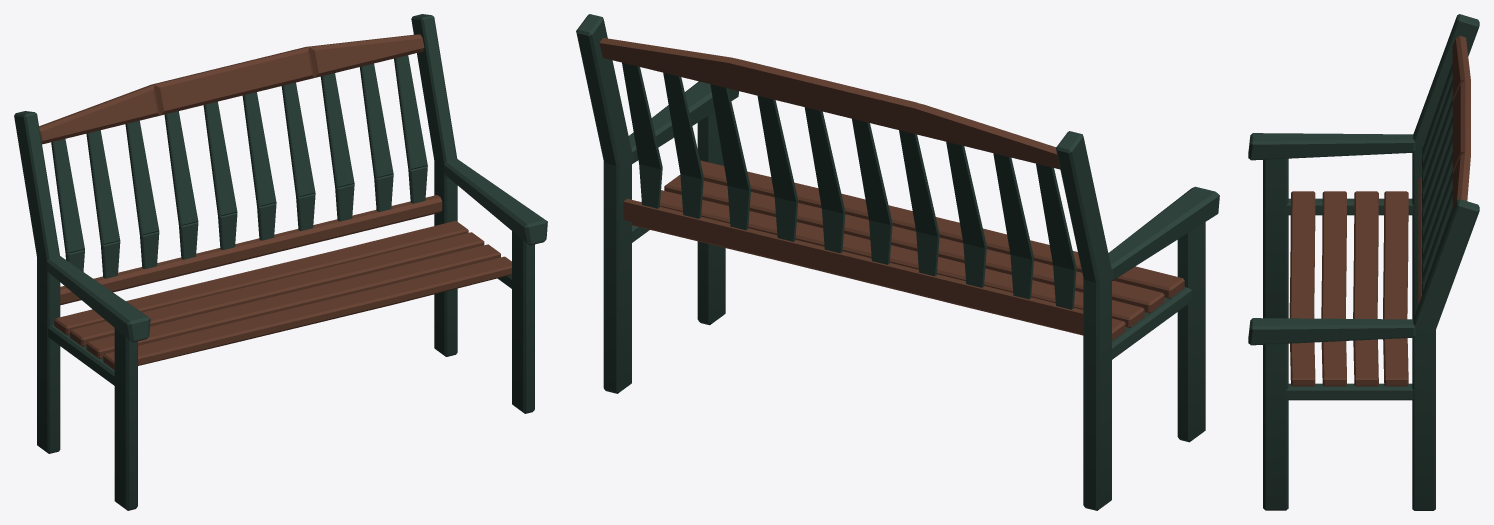
Rendered from city_bench_1.glb.
3 renders of one model, left to right at view 1: azimuth 30°, elevation 25°; view 2: azimuth 150°, elevation 25°; view 3: azimuth 270°, elevation 25°, orthographic. The views are drawn at different scales.
Visible parts, largest first — view 1: city_bench_1; view 2: city_bench_1; view 3: city_bench_1.
Boxes of the visible parts, x1=… form: city_bench_1: x1=14, y1=14, x2=547, y2=510; city_bench_1: x1=576, y1=14, x2=1219, y2=510; city_bench_1: x1=1248, y1=14, x2=1479, y2=510.
Size of the model in its own units: 1.38 by 1.01 by 0.6873.
1 material, 1 textured.
